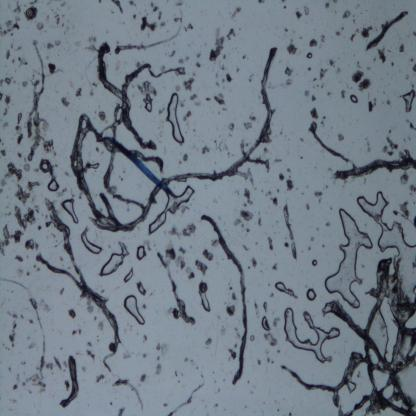Air bubble: (357, 191, 416, 296), (324, 207, 372, 308), (283, 305, 341, 365), (147, 186, 194, 236), (100, 242, 129, 278), (167, 93, 185, 145), (123, 294, 145, 327), (81, 230, 102, 255), (61, 199, 79, 224), (400, 88, 416, 115), (274, 280, 294, 297), (199, 292, 211, 312), (305, 287, 318, 303), (47, 178, 60, 193), (123, 268, 134, 282), (136, 245, 146, 260), (261, 316, 270, 331), (137, 282, 146, 297), (349, 92, 359, 104), (89, 163, 100, 171), (310, 258, 318, 267), (263, 301, 268, 313), (307, 52, 313, 60)
Background material: (112, 378, 144, 410), (138, 80, 159, 114), (0, 224, 22, 256), (166, 242, 188, 272), (22, 374, 48, 398), (209, 27, 224, 64), (350, 70, 373, 94), (15, 206, 37, 230), (0, 13, 20, 38), (164, 223, 196, 238), (6, 309, 18, 348), (37, 157, 59, 178), (5, 161, 24, 182), (381, 137, 399, 156), (140, 15, 159, 33), (15, 184, 30, 206), (155, 342, 170, 361), (398, 200, 411, 221), (85, 36, 99, 55), (214, 139, 230, 154), (376, 46, 388, 66), (43, 139, 57, 156), (243, 115, 258, 130), (194, 260, 208, 275), (52, 13, 66, 28), (283, 67, 293, 88), (182, 76, 195, 92), (294, 5, 310, 18), (24, 238, 40, 251), (111, 0, 125, 14), (243, 188, 253, 207), (11, 373, 21, 392), (15, 124, 24, 145), (399, 171, 411, 186), (366, 97, 378, 112), (361, 25, 373, 39), (253, 300, 261, 321), (265, 332, 277, 346), (84, 300, 95, 315), (313, 189, 324, 204), (45, 40, 61, 50), (286, 43, 299, 55), (27, 179, 40, 191), (239, 210, 253, 221), (95, 371, 106, 385), (318, 66, 329, 80), (350, 28, 361, 42), (202, 249, 214, 261), (231, 7, 243, 19), (215, 93, 226, 106), (85, 349, 96, 362), (226, 27, 236, 41), (70, 327, 84, 337), (310, 107, 319, 122), (158, 20, 169, 32), (13, 252, 24, 264), (46, 61, 56, 74), (285, 178, 294, 192), (66, 309, 77, 320), (182, 110, 193, 121), (226, 304, 236, 316), (342, 10, 354, 20), (266, 237, 274, 252), (150, 2, 160, 14), (398, 41, 407, 54), (210, 235, 219, 248), (228, 348, 237, 361), (97, 108, 106, 121), (14, 0, 22, 14), (4, 92, 12, 106), (154, 362, 162, 376), (234, 218, 244, 229), (60, 97, 70, 108), (16, 57, 28, 66), (309, 36, 318, 48), (199, 281, 208, 293), (186, 267, 194, 280), (407, 121, 416, 132), (250, 255, 257, 269), (97, 319, 104, 333), (408, 184, 416, 196), (272, 315, 280, 327), (226, 122, 235, 132), (201, 145, 210, 155), (74, 87, 82, 98), (230, 290, 237, 302), (64, 378, 70, 392), (23, 162, 30, 174), (189, 92, 198, 101), (183, 23, 193, 31), (328, 59, 338, 67), (5, 76, 13, 86), (35, 22, 45, 30), (270, 196, 278, 206), (17, 114, 24, 125), (278, 172, 285, 183), (139, 374, 148, 382), (2, 106, 8, 118), (257, 215, 263, 227), (177, 58, 189, 64), (271, 263, 278, 273), (225, 73, 232, 83), (5, 50, 11, 61), (205, 338, 213, 346), (181, 153, 188, 162), (340, 90, 347, 99), (0, 177, 7, 186), (256, 357, 262, 367), (0, 148, 7, 156), (22, 80, 29, 88), (194, 61, 202, 68), (169, 50, 176, 58), (325, 220, 332, 228), (284, 241, 290, 250), (249, 334, 255, 342), (16, 151, 22, 159), (310, 94, 315, 103), (412, 63, 416, 74), (46, 219, 52, 226), (37, 224, 43, 231), (304, 90, 309, 97), (306, 204, 310, 212), (386, 100, 391, 106), (158, 11, 162, 18), (0, 92, 3, 100)
Cellulose filter fibre: (165, 46, 277, 183), (35, 253, 121, 372), (70, 119, 158, 232), (330, 300, 416, 410), (201, 214, 248, 385), (280, 350, 416, 392), (0, 275, 46, 381), (120, 63, 173, 150), (104, 104, 142, 214), (362, 264, 391, 393), (44, 197, 86, 283), (116, 9, 184, 52), (158, 253, 194, 325), (94, 41, 131, 111), (27, 41, 46, 161), (332, 390, 416, 416), (332, 156, 416, 182), (310, 126, 355, 168), (366, 12, 408, 52), (168, 380, 204, 416), (59, 356, 79, 408), (239, 140, 272, 170), (282, 207, 298, 261), (337, 132, 345, 141)
Cotton: (105, 133, 177, 198)
Diatom: (53, 355, 62, 370), (108, 341, 116, 353), (26, 7, 33, 18)
